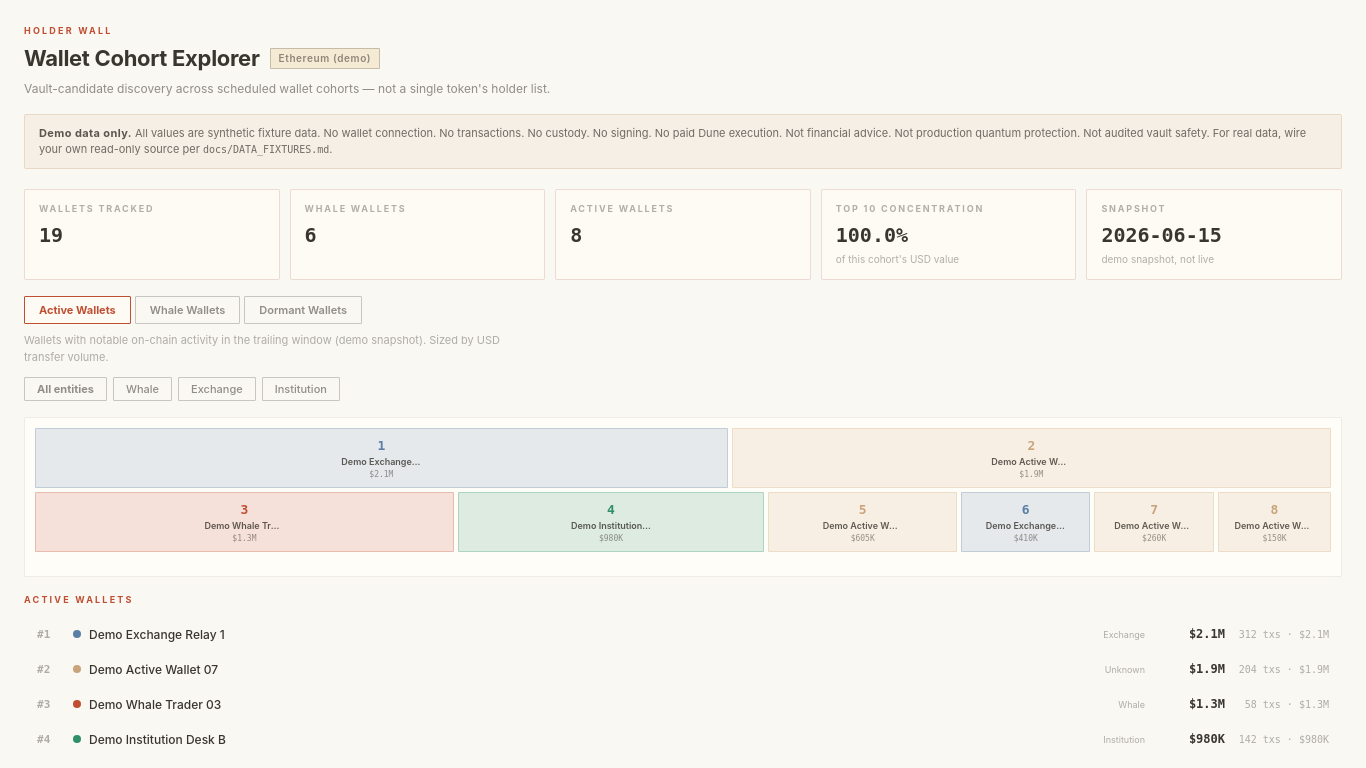
Test case: Holder Wall › filters the active cohort by entity type, with no protocol option
Step 1. Click the button "Whale" → (142, 389), box [113, 377, 172, 401]
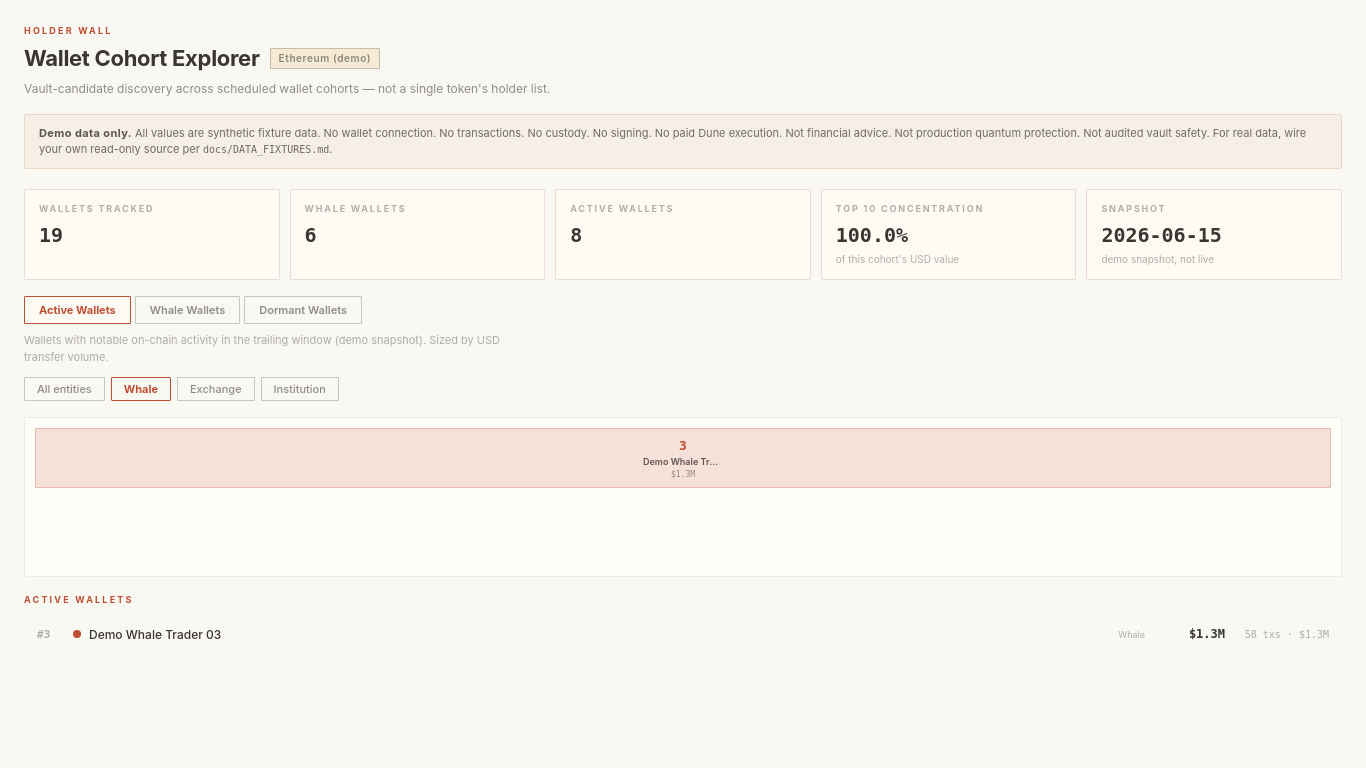
Expected: no buttons "Demo Exchange Relay 1" are shown
